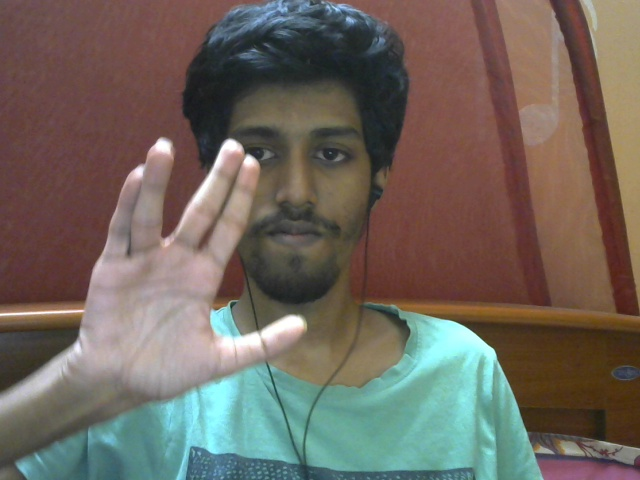LiveLong: (79, 137, 306, 403)
